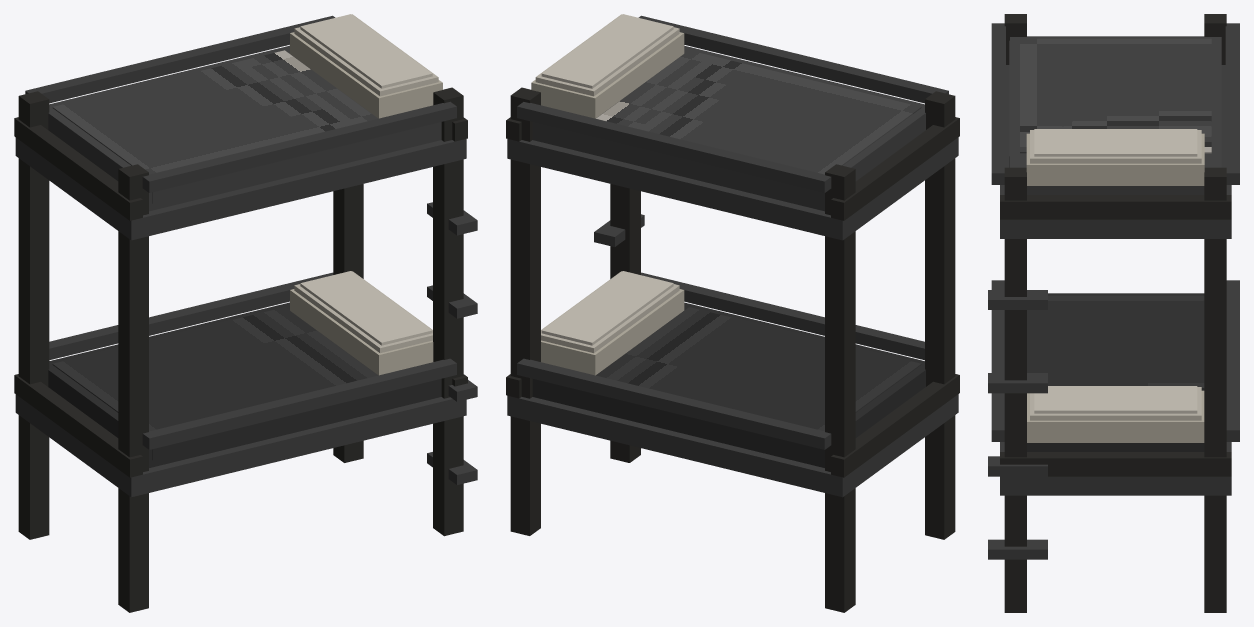
Rendered from CMU3DBunkBed.glb.
3 renders of one model, left to right at view 1: azimuth 30°, elevation 25°; view 2: azimuth 150°, elevation 25°; view 3: azimuth 270°, elevation 25°, orthographic.
Visible parts, largest first — view 1: frame leg (×4), UpperBlanket source pixels, guard rail (×4), bed frame (×2), LowerBlanket source pixels, mattress (×2), pillow face (×2), frame end lip (×2), pillow (×2), blanket front fold (×2), pillow upper cushion (×2); view 2: frame leg (×4), UpperBlanket source pixels, guard rail (×4), bed frame (×2), LowerBlanket source pixels, mattress (×2), pillow face (×2), frame end lip (×2), pillow (×2), pillow upper cushion (×2), head-end ladder rung; view 3: UpperBlanket source pixels, frame leg (×4), LowerBlanket source pixels, frame end lip (×2), bed frame (×2), pillow face (×2), guard rail (×4), pillow (×2), mattress (×2), head-end ladder rung (×4), pillow upper cushion (×2).
Boxes of the visible parts, x1,y1,x2,y2 form: frame leg (×4): (18,87,463,612); UpperBlanket source pixels: (52,50,377,174); guard rail (×4): (25,15,456,449); bed frame (×2): (15,137,466,497); LowerBlanket source pixels: (52,307,377,431); mattress (×2): (48,45,441,467); pillow face (×2): (300,14,432,345); frame end lip (×2): (14,117,142,477); pillow (×2): (290,32,442,375); blanket front fold (×2): (152,135,389,460); pillow upper cushion (×2): (294,14,438,353); frame leg (×4): (510,87,955,612); UpperBlanket source pixels: (596,50,921,174); guard rail (×4): (517,15,948,449); bed frame (×2): (507,137,958,497); LowerBlanket source pixels: (596,307,921,431); mattress (×2): (532,45,925,467); pillow face (×2): (541,14,673,345); frame end lip (×2): (831,117,959,477); pillow (×2): (531,32,684,375); pillow upper cushion (×2): (535,14,679,353); head-end ladder rung: (594,214,644,246); UpperBlanket source pixels: (1020,38,1211,153); frame leg (×4): (1004,14,1226,612); LowerBlanket source pixels: (1027,295,1204,390); frame end lip (×2): (1000,195,1231,476); bed frame (×2): (1000,65,1231,495); pillow face (×2): (1034,129,1197,413); guard rail (×4): (991,23,1239,441); pillow (×2): (1026,133,1204,442); mattress (×2): (1010,36,1221,451); head-end ladder rung (×4): (988,290,1047,559); pillow upper cushion (×2): (1030,130,1201,420).
Size of the model in its own units: 0.989 by 1.25 by 0.631.
Materials: 9 (2 with a texture image).
